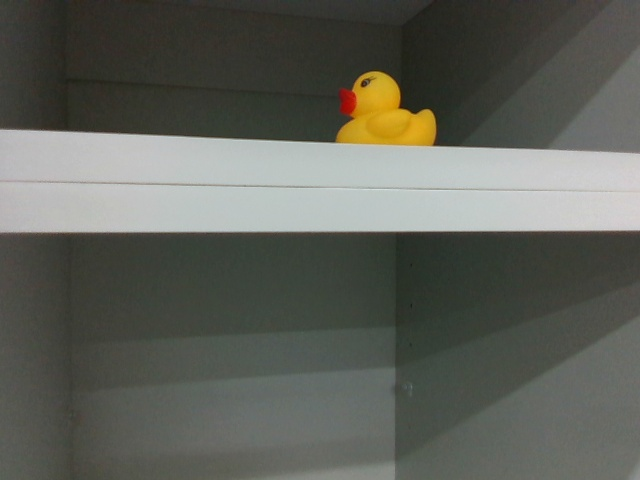duck: (333, 62, 442, 149)
